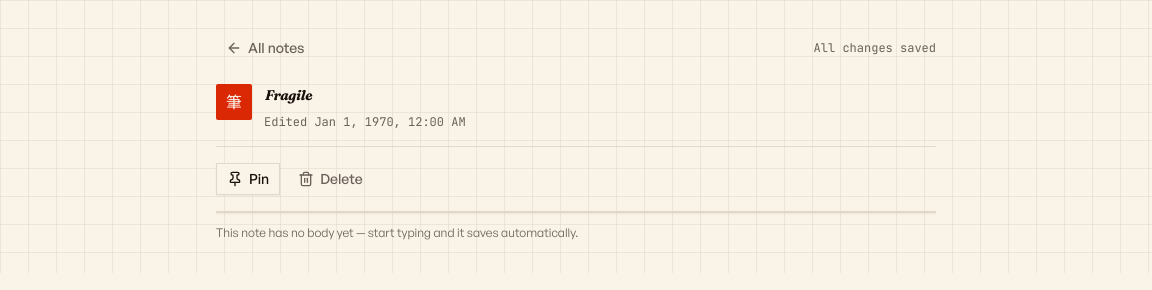
Test case: NoteDetailPage › shows a save failure when the update rejects
The width and height of the screenshot is (1152, 290).
Type "!" into the field showing "Fragile". click: (600, 95)
box: [264, 80, 936, 110]
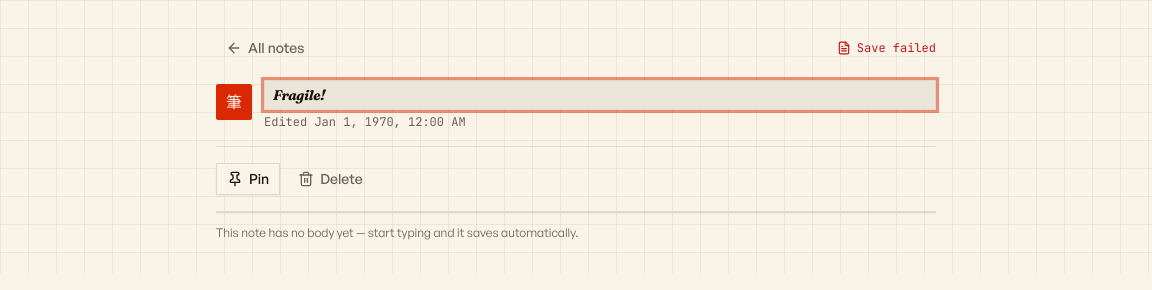
Expected: the text "Save failed" is shown, [837, 40, 936, 56]
